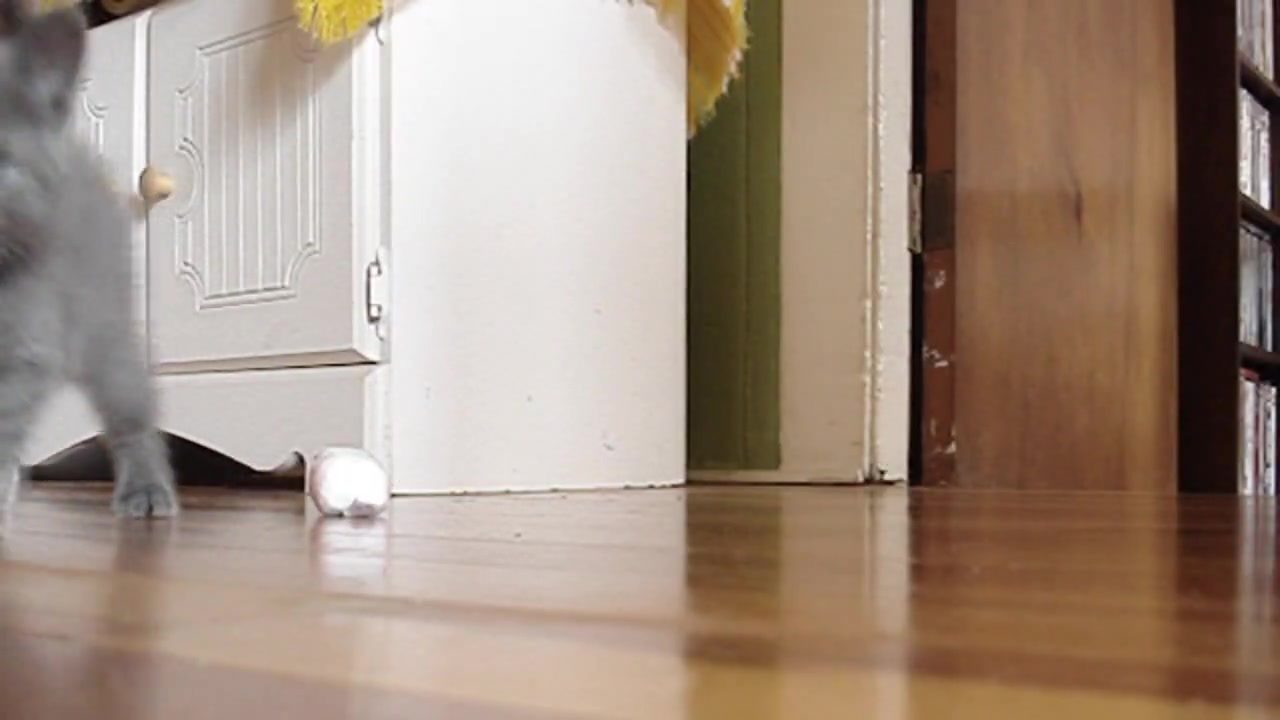cat: (1, 3, 176, 543)
